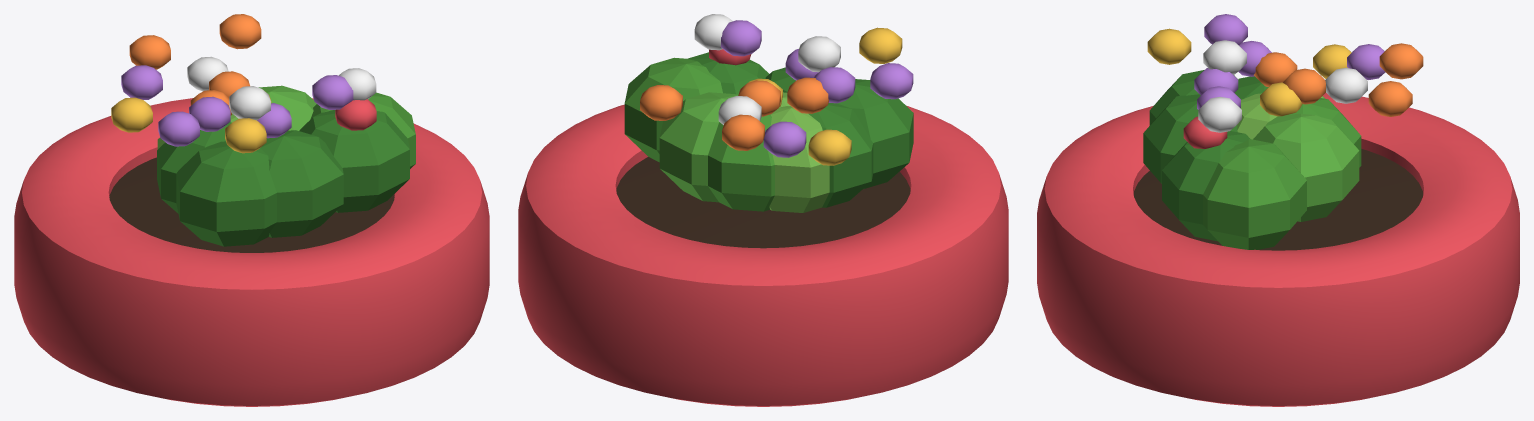
Rendered from tyre_planter_red.fbx.
The picture shows the model from 3 angles, left to right: view 1: azimuth 30°, elevation 25°; view 2: azimuth 150°, elevation 25°; view 3: azimuth 270°, elevation 25°; orthographic projection. The views are drawn at different scales.
Parts seen in each view (by area): view 1: tyre_planter_red; view 2: tyre_planter_red; view 3: tyre_planter_red.
Part boxes in pixels (left/top/right/bottom): tyre_planter_red: left=14, top=14, right=489, bottom=406; tyre_planter_red: left=518, top=14, right=1008, bottom=406; tyre_planter_red: left=1037, top=14, right=1519, bottom=406.
Size of the model in its own units: 0.63 by 0.3752 by 0.63.
